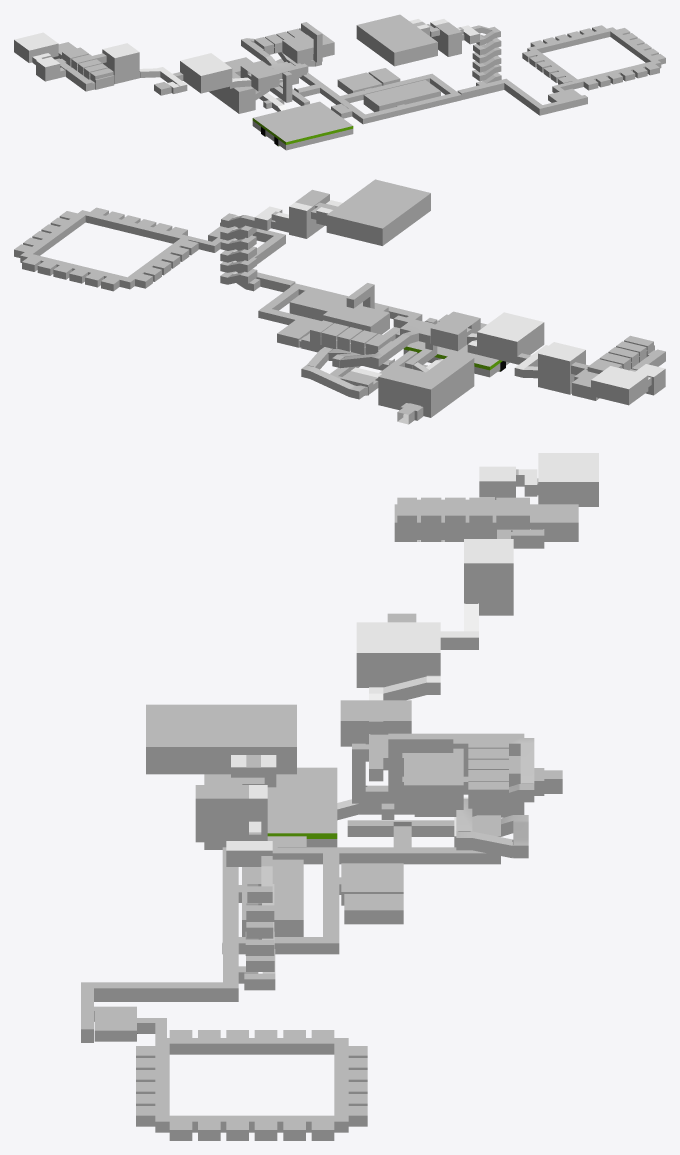
Rendered from remakemapscarybaboonidkwhy.fbx.
3 views of the same model, one above another, from view 1: azimuth 30°, elevation 25°; view 2: azimuth 150°, elevation 25°; view 3: azimuth 270°, elevation 25° (orthographic). The views are drawn at different scales.
Parts seen in each view (by area): view 1: _1stmap_ConcreteFloor_AmbientOcclusion_12_0_6, _1stmap_OfficeCeiling001_2K_PNG_AmbientOcclusion_4_0_7, _2ndmap_ConcreteFloor_AmbientOcclusion_12_0_17, _2ndmap_OfficeCeiling001_2K_PNG_AmbientOcclusion_4_0_18, _1stmap_OfficeCeiling001_2K_PNG_AmbientOcclusion_7_0_13, _1stmap_OfficeCeiling001_2K_PNG_AmbientOcclusion_5_0_8, _1stmap_ConcreteFloor_AmbientOcclusion_21_0_11, _2ndmap_OfficeCeiling001_2K_PNG_AmbientOcclusion_5_0_19, _1stmap_OfficeCeiling001_2K_PNG_AmbientOcclusion_8_0_14; view 2: _1stmap_ConcreteFloor_AmbientOcclusion_12_0_6, _1stmap_OfficeCeiling001_2K_PNG_AmbientOcclusion_4_0_7, _2ndmap_ConcreteFloor_AmbientOcclusion_12_0_17, _2ndmap_OfficeCeiling001_2K_PNG_AmbientOcclusion_4_0_18, _1stmap_OfficeCeiling001_2K_PNG_AmbientOcclusion_7_0_13, _1stmap_OfficeCeiling001_2K_PNG_AmbientOcclusion_5_0_8, _2ndmap_OfficeCeiling001_2K_PNG_AmbientOcclusion_5_0_19, _1stmap_OfficeCeiling001_2K_PNG_AmbientOcclusion_8_0_14; view 3: _1stmap_ConcreteFloor_AmbientOcclusion_12_0_6, _1stmap_OfficeCeiling001_2K_PNG_AmbientOcclusion_4_0_7, _2ndmap_OfficeCeiling001_2K_PNG_AmbientOcclusion_4_0_18, _2ndmap_ConcreteFloor_AmbientOcclusion_12_0_17, _1stmap_OfficeCeiling001_2K_PNG_AmbientOcclusion_7_0_13, _1stmap_OfficeCeiling001_2K_PNG_AmbientOcclusion_5_0_8, _2ndmap_OfficeCeiling001_2K_PNG_AmbientOcclusion_5_0_19.
Boxes of the visible parts, x1,y1,x2,y2 form: _1stmap_ConcreteFloor_AmbientOcclusion_12_0_6: (14, 22, 461, 150); _1stmap_OfficeCeiling001_2K_PNG_AmbientOcclusion_4_0_7: (55, 25, 460, 118); _2ndmap_ConcreteFloor_AmbientOcclusion_12_0_17: (356, 21, 665, 115); _2ndmap_OfficeCeiling001_2K_PNG_AmbientOcclusion_4_0_18: (357, 14, 665, 108); _1stmap_OfficeCeiling001_2K_PNG_AmbientOcclusion_7_0_13: (139, 53, 250, 87); _1stmap_OfficeCeiling001_2K_PNG_AmbientOcclusion_5_0_8: (14, 32, 287, 110); _1stmap_ConcreteFloor_AmbientOcclusion_21_0_11: (252, 118, 353, 145); _2ndmap_OfficeCeiling001_2K_PNG_AmbientOcclusion_5_0_19: (409, 19, 479, 35); _1stmap_OfficeCeiling001_2K_PNG_AmbientOcclusion_8_0_14: (102, 43, 135, 55); _1stmap_ConcreteFloor_AmbientOcclusion_12_0_6: (258, 283, 665, 424); _1stmap_OfficeCeiling001_2K_PNG_AmbientOcclusion_4_0_7: (258, 283, 665, 391); _2ndmap_ConcreteFloor_AmbientOcclusion_12_0_17: (14, 189, 430, 292); _2ndmap_OfficeCeiling001_2K_PNG_AmbientOcclusion_4_0_18: (14, 179, 430, 285); _1stmap_OfficeCeiling001_2K_PNG_AmbientOcclusion_7_0_13: (467, 312, 548, 370); _1stmap_OfficeCeiling001_2K_PNG_AmbientOcclusion_5_0_8: (351, 359, 664, 389); _2ndmap_OfficeCeiling001_2K_PNG_AmbientOcclusion_5_0_19: (255, 200, 342, 220); _1stmap_OfficeCeiling001_2K_PNG_AmbientOcclusion_8_0_14: (538, 345, 580, 361); _1stmap_ConcreteFloor_AmbientOcclusion_12_0_6: (204, 469, 598, 954); _1stmap_OfficeCeiling001_2K_PNG_AmbientOcclusion_4_0_7: (222, 497, 534, 943); _2ndmap_OfficeCeiling001_2K_PNG_AmbientOcclusion_4_0_18: (81, 704, 367, 1129); _2ndmap_ConcreteFloor_AmbientOcclusion_12_0_17: (81, 747, 367, 1140); _1stmap_OfficeCeiling001_2K_PNG_AmbientOcclusion_7_0_13: (356, 604, 478, 700); _1stmap_OfficeCeiling001_2K_PNG_AmbientOcclusion_5_0_8: (337, 453, 598, 836); _2ndmap_OfficeCeiling001_2K_PNG_AmbientOcclusion_5_0_19: (226, 755, 276, 850).
Bounding box in the file's own units: 22142 × 3392 × 9114.
